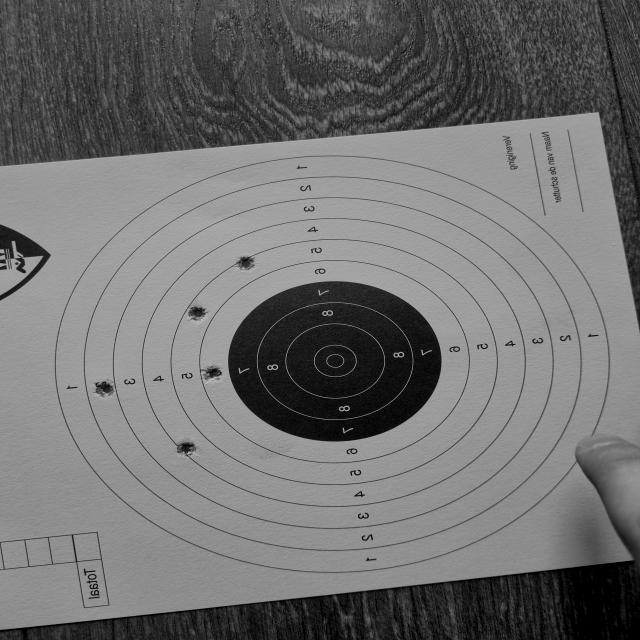2: (92, 379, 116, 397)
5: (174, 439, 198, 457), (184, 304, 209, 320), (232, 256, 257, 271)
6: (200, 366, 223, 382)
Target: (51, 147, 614, 589)
black_contour: (228, 280, 443, 439)
